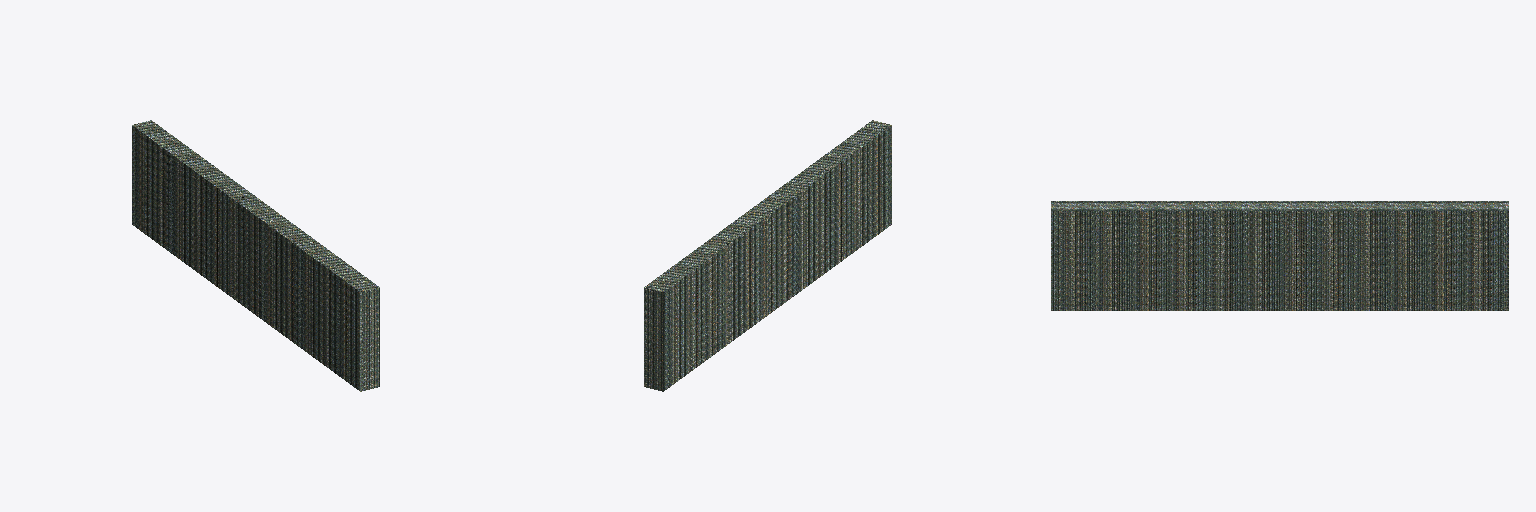
3 views of the same model, side by side, from view 1: azimuth 30°, elevation 25°; view 2: azimuth 150°, elevation 25°; view 3: azimuth 270°, elevation 25° (orthographic).
Visible parts, largest first — view 1: Cube; view 2: Cube; view 3: Cube.
Boxes of the visible parts, x1=… form: Cube: x1=132, y1=120, x2=379, y2=391; Cube: x1=644, y1=120, x2=891, y2=391; Cube: x1=1051, y1=201, x2=1508, y2=310.
Size of the model in its own units: 5 by 24 by 100.
Materials: 1 (1 with a texture image).